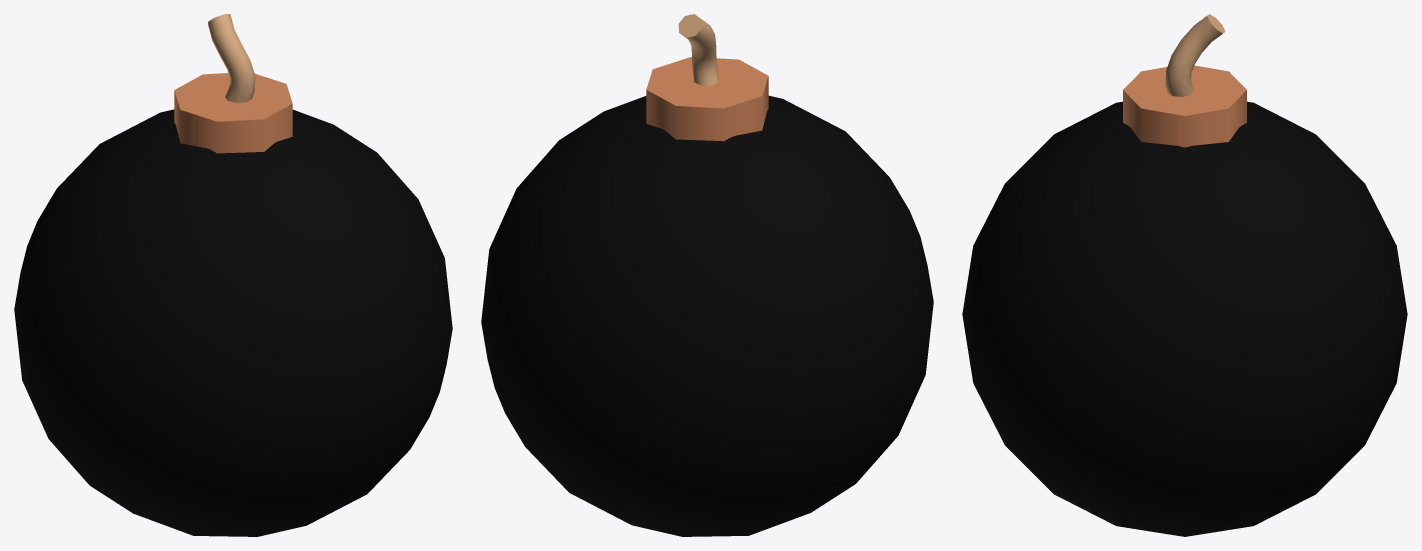
The model's file is Bomb.fbx.
3 renders of one model, left to right at view 1: azimuth 30°, elevation 25°; view 2: azimuth 150°, elevation 25°; view 3: azimuth 270°, elevation 25°, orthographic. The views are drawn at different scales.
Visible parts, largest first — view 1: Icosphere_001; view 2: Icosphere_001; view 3: Icosphere_001.
Boxes of the visible parts, x1,y1,x2,y2 form: Icosphere_001: (14,14,452,536); Icosphere_001: (481,14,933,536); Icosphere_001: (962,14,1407,536).
Size of the model in its own units: 2 by 2.48 by 2.
